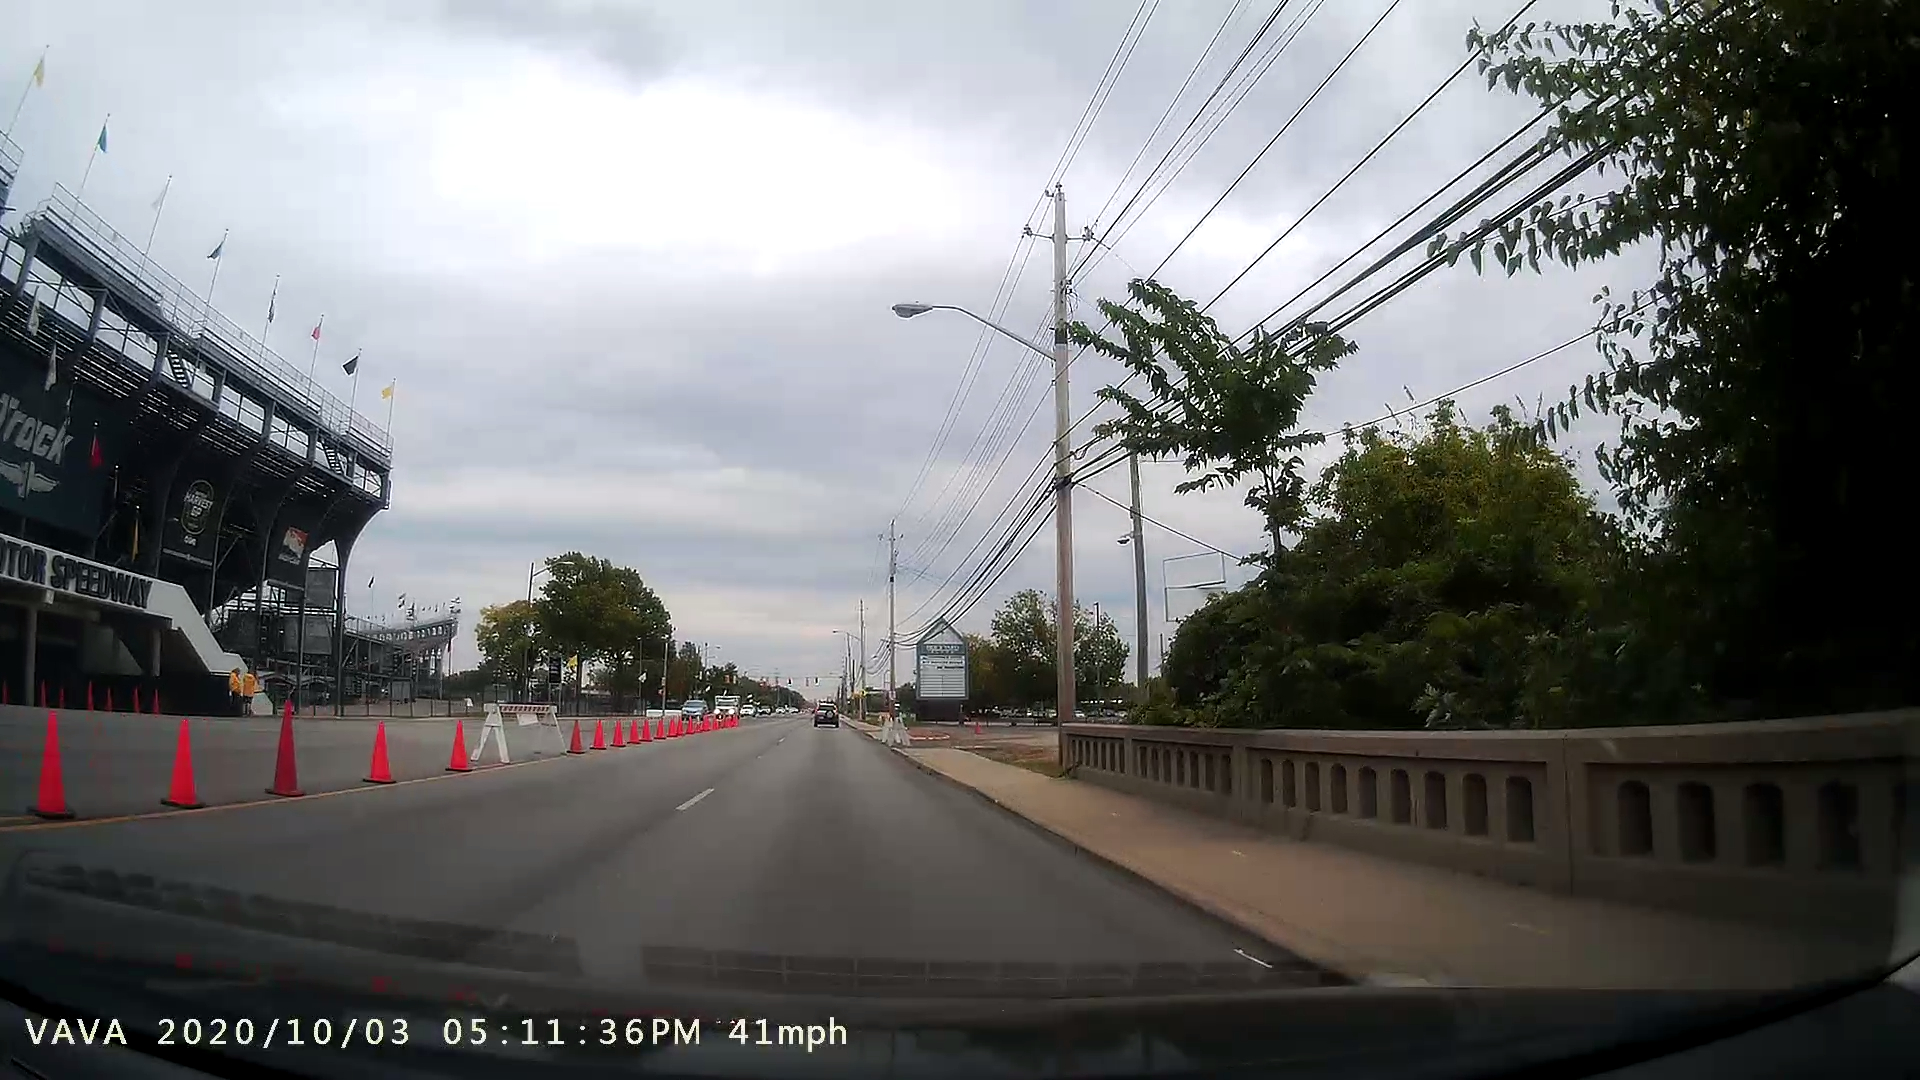const_barricade: (465, 684, 568, 760)
const_cone: (16, 696, 88, 835), (150, 704, 215, 823), (256, 688, 313, 799), (349, 702, 409, 796)
